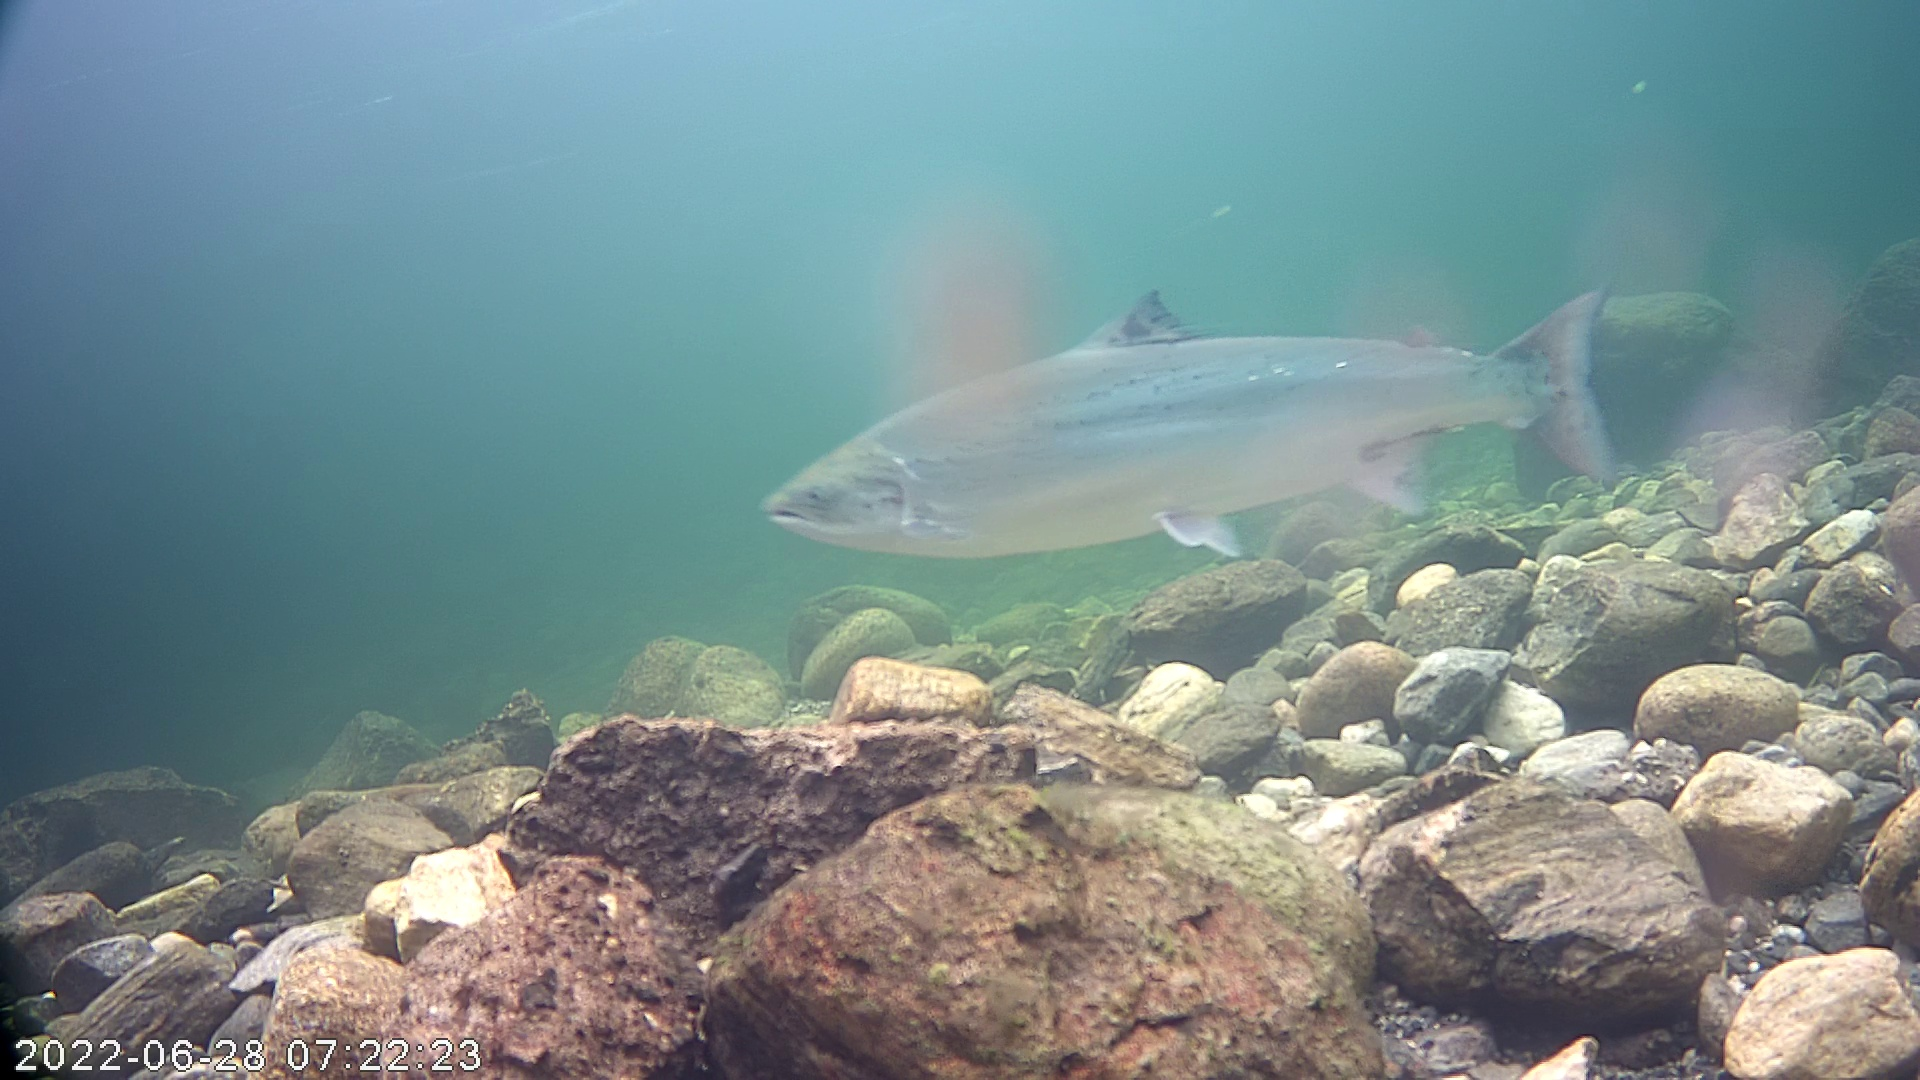salmon: (756, 210, 1644, 616)
